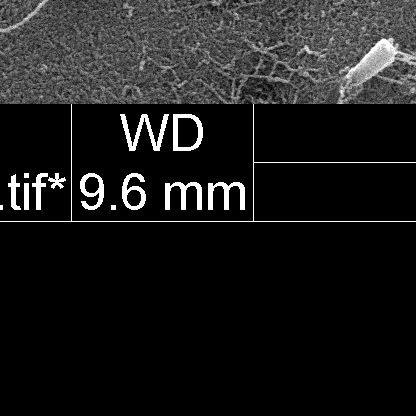cell2surface: (0, 0, 61, 80)
regular: (345, 40, 397, 88)
